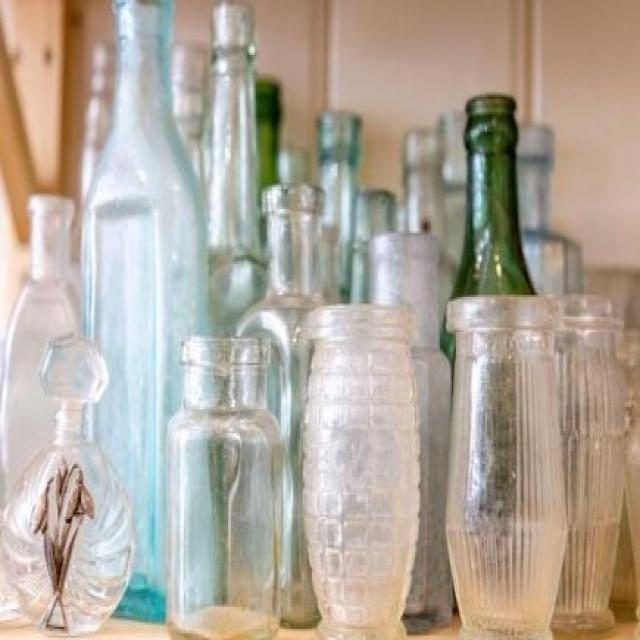electronic: (5, 0, 582, 640), (163, 299, 640, 640)
